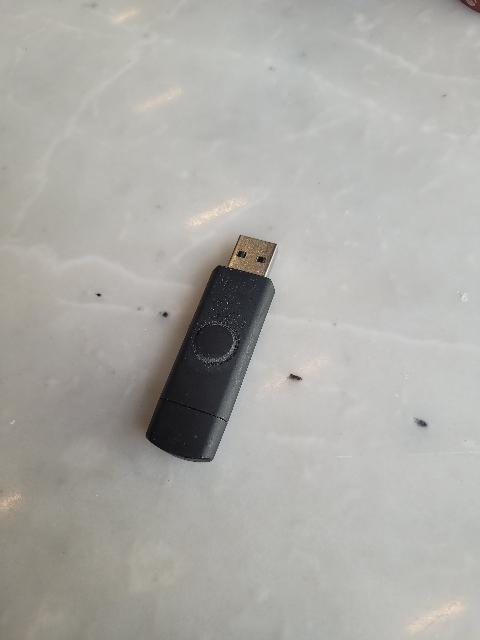Metal: (213, 225, 284, 277)
Plastik: (137, 281, 287, 466)
